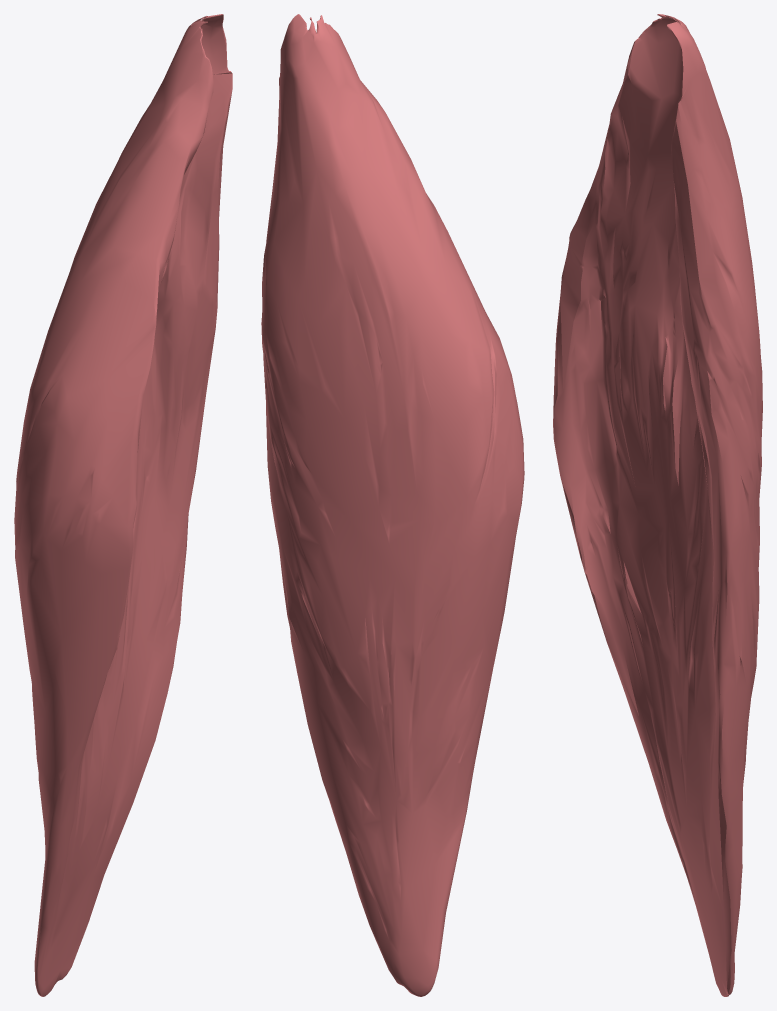
3 renders of one model, left to right at view 1: azimuth 30°, elevation 25°; view 2: azimuth 150°, elevation 25°; view 3: azimuth 270°, elevation 25°, orthographic. The views are drawn at different scales.
Parts seen in each view (by area): view 1: FJ1437M; view 2: FJ1437M; view 3: FJ1437M.
Boxes of the visible parts, x1,y1,x2,y2 form: FJ1437M: (14, 14, 232, 996); FJ1437M: (261, 14, 524, 996); FJ1437M: (553, 14, 762, 996).
Size of the model in its own units: 0.0798 by 0.3244 by 0.0586.
